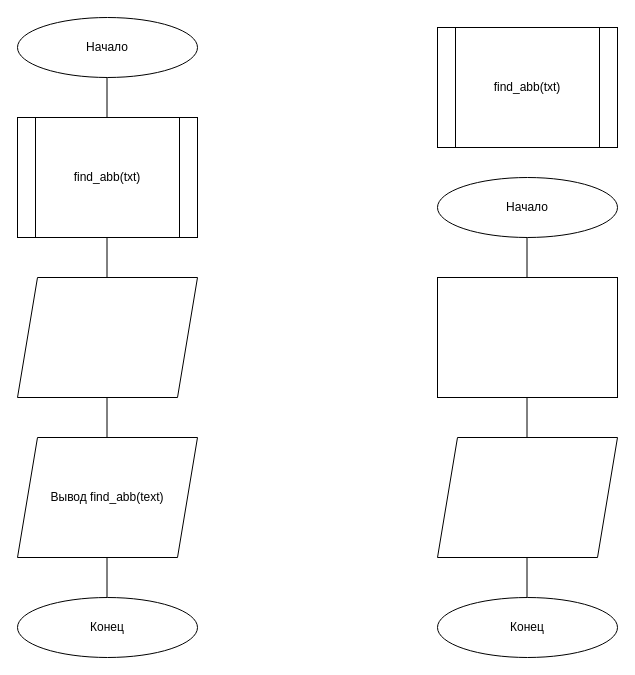
Image size: 635x675. Some labels were removed from this diagram. Each missing label, with the centre of its shape:
abbreviations = re.findall(r"\b[A-ZА-ЯЁ]{1,6}\b", text): pixel 527 337
Ввод текста с клавиатуры(text): pixel 107 337
Возвращаем abbreviations: pixel 527 497
